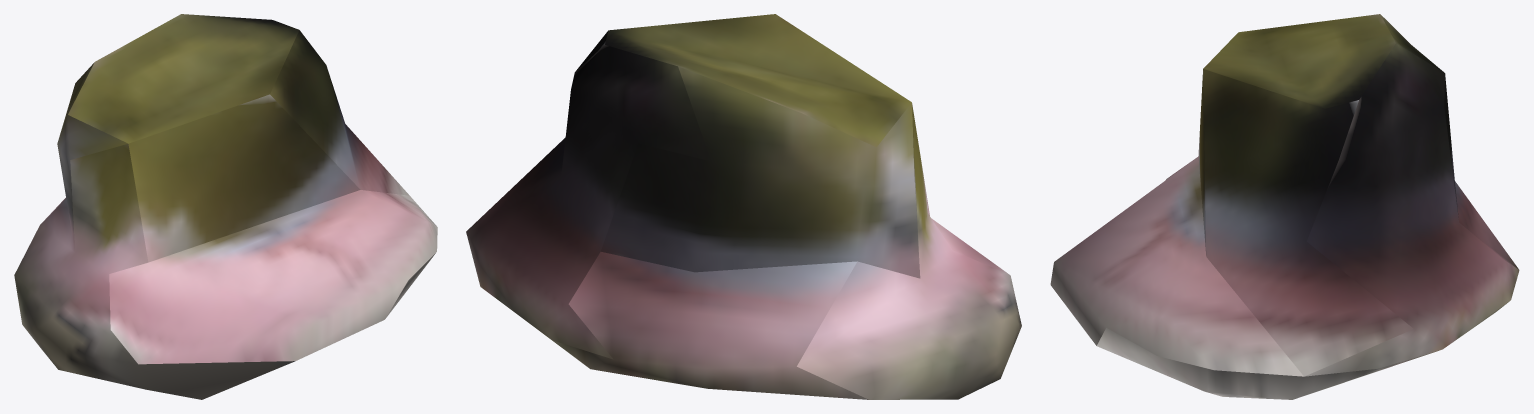
The model's file is hut2.gltf.
3 views of the same model, side by side, from view 1: azimuth 30°, elevation 25°; view 2: azimuth 150°, elevation 25°; view 3: azimuth 270°, elevation 25° (orthographic). The views are drawn at different scales.
Parts seen in each view (by area): view 1: Node; view 2: Node; view 3: Node.
Boxes of the visible parts, <box> form: Node: <box>14,14,437,399</box>; Node: <box>466,14,1021,399</box>; Node: <box>1050,14,1519,399</box>.
Bounding box in the file's own units: 3.28 × 2.22 × 2.96.
Materials: 2 (2 with a texture image).
